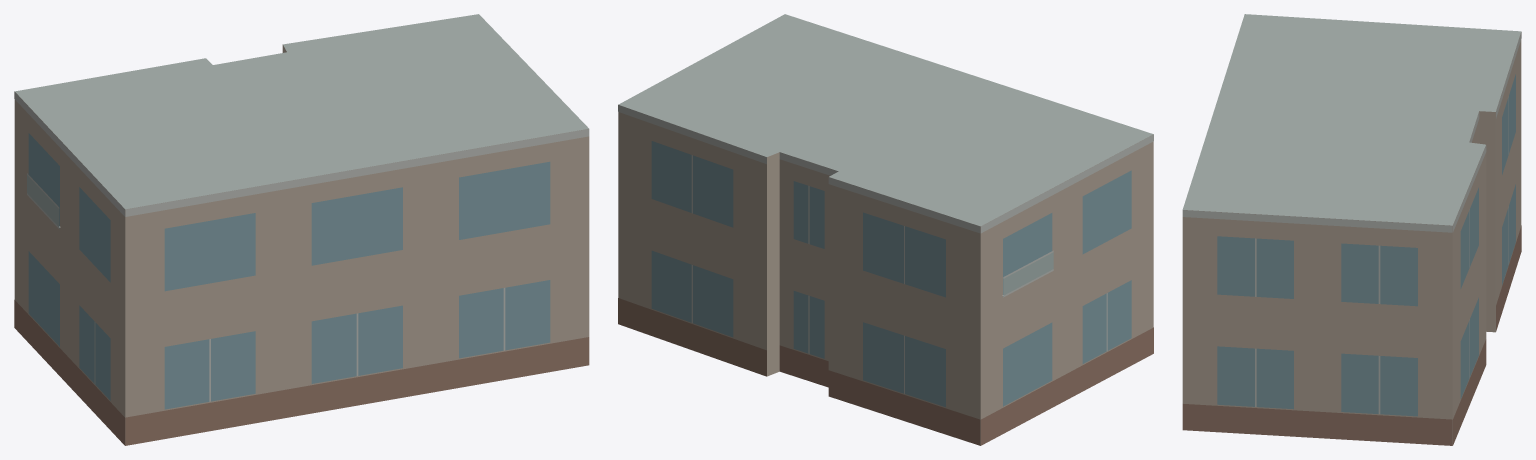
Rendered from survey-upis-32978800.glb.
3 views of the same model, side by side, from view 1: azimuth 30°, elevation 25°; view 2: azimuth 150°, elevation 25°; view 3: azimuth 270°, elevation 25° (orthographic). The views are drawn at different scales.
Parts seen in each view (by area): view 1: survey-upis-32978800.tmp; view 2: survey-upis-32978800.tmp; view 3: survey-upis-32978800.tmp.
Part boxes in pixels (box(x1,y1,x2,y2)): survey-upis-32978800.tmp: box(14, 14, 589, 445); survey-upis-32978800.tmp: box(618, 14, 1153, 445); survey-upis-32978800.tmp: box(1182, 14, 1521, 445).
Size of the model in its own units: 15.46 by 7.5 by 10.47.
